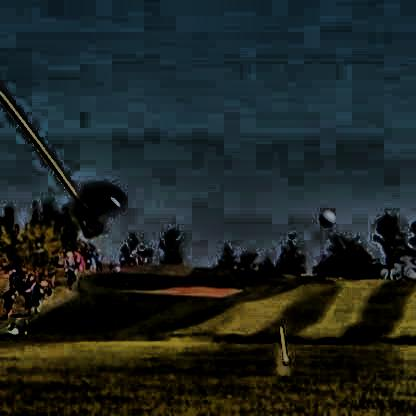golfball: (315, 206, 333, 225)
